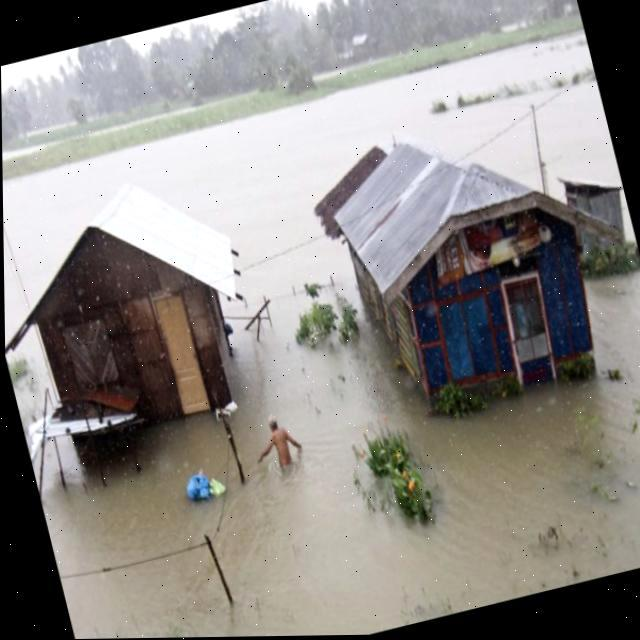civilian: (260, 411, 314, 484)
